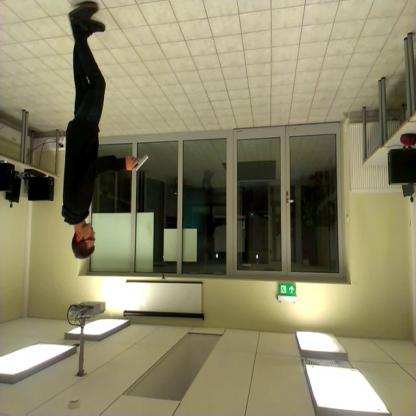Pistol: (132, 149, 152, 174)
